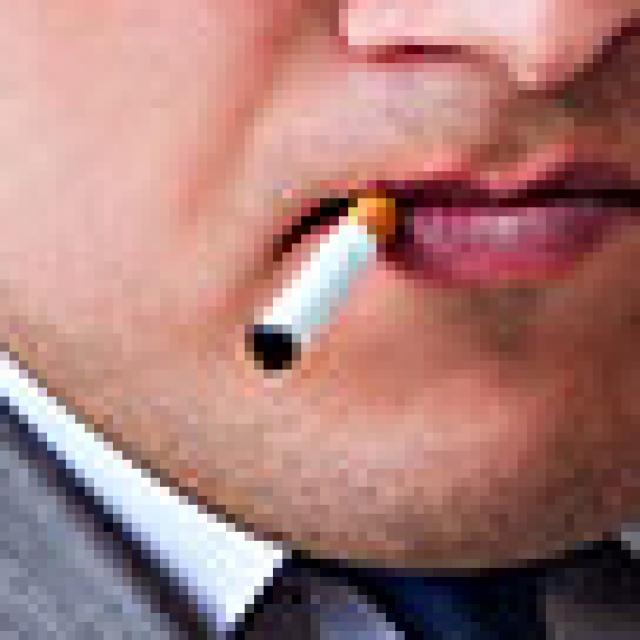smoke: (227, 162, 407, 400)
